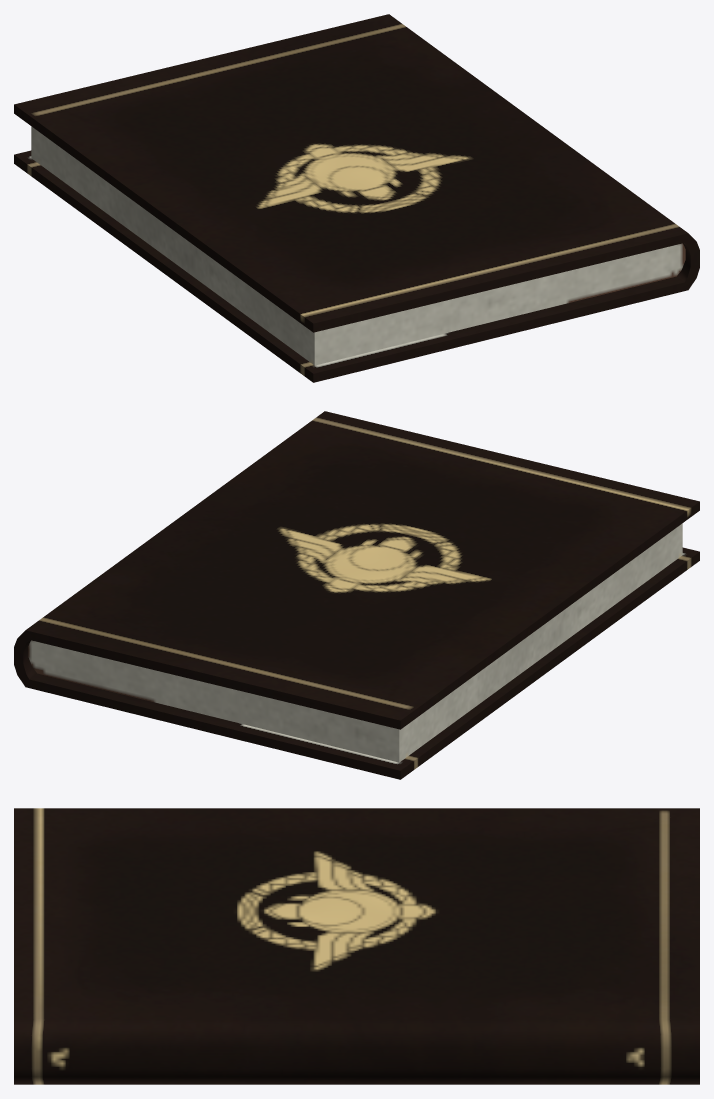
The model's file is Book04.fbx.
3 views of the same model, one above another, from view 1: azimuth 30°, elevation 25°; view 2: azimuth 150°, elevation 25°; view 3: azimuth 270°, elevation 25° (orthographic). The views are drawn at different scales.
Visible parts, largest first — view 1: prop_book_03_inst_001; view 2: prop_book_03_inst_001; view 3: prop_book_03_inst_001.
Boxes of the visible parts, bbox=[...] form: prop_book_03_inst_001: bbox=[14, 14, 699, 382]; prop_book_03_inst_001: bbox=[14, 411, 699, 779]; prop_book_03_inst_001: bbox=[14, 808, 699, 1084].
Bounding box in the file's own units: 21.86 × 3.2 × 29.33.
1 material, 1 textured.
